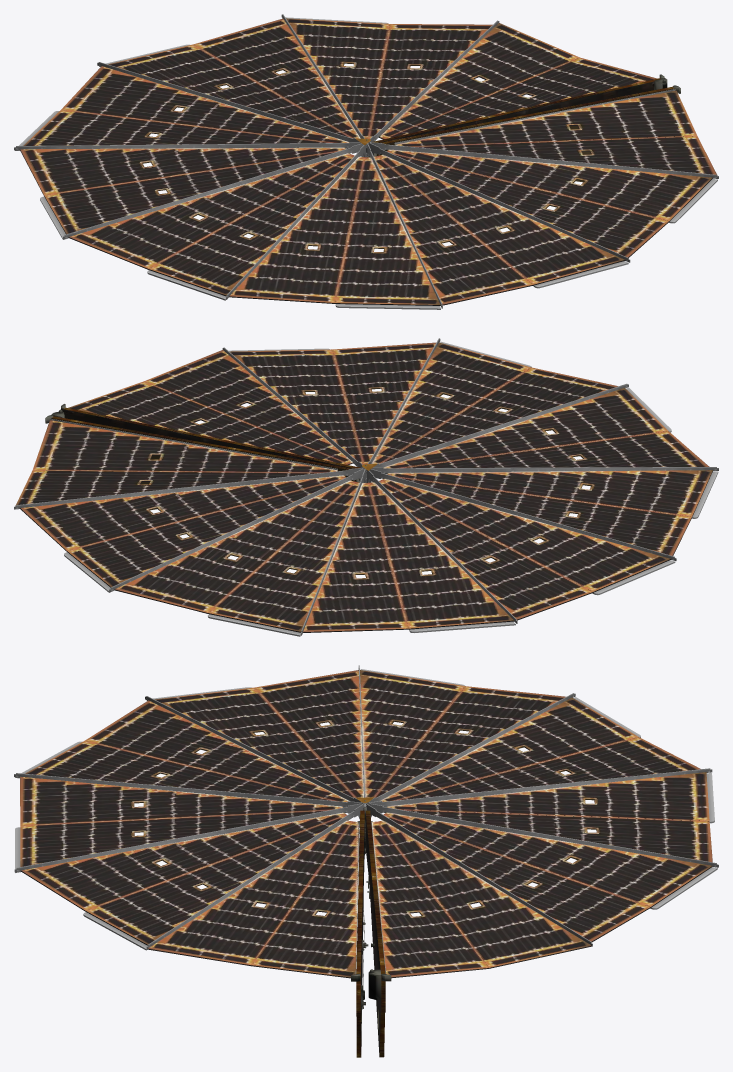
The model's file is solar-array.glb.
3 views of the same model, one above another, from view 1: azimuth 30°, elevation 25°; view 2: azimuth 150°, elevation 25°; view 3: azimuth 270°, elevation 25° (orthographic). The views are drawn at different scales.
Visible parts, largest first — view 1: Cube.056, Cube.051, Cube.055, Cube.001, Cube.050, Cube.065, Cube.052, Cube.049, Cube.053, Cube.063, Cube.059, Cube.061 (+19 smaller); view 2: Cube.047, Cube.064, Cube.061, Cube.049, Cube.063, Cube.058, Cube.062, Cube.046, Cube.051, Cube.065, Cube.060, Cube.056 (+18 smaller); view 3: Cube.059, Cube.060, Cube.057, Cube.054, Cube.062, Cube.053, Cube.046, Cube.052, Cube.064, Cube.055, Cube.050, Cube.058 (+18 smaller).
Part boxes in pixels (x1=…): Cube.056: x1=378, y1=154, x2=628, y2=288; Cube.051: x1=335, y1=157, x2=440, y2=309; Cube.055: x1=387, y1=149, x2=717, y2=223; Cube.001: x1=68, y1=153, x2=352, y2=269; Cube.050: x1=229, y1=157, x2=364, y2=303; Cube.065: x1=20, y1=147, x2=345, y2=195; Cube.052: x1=374, y1=156, x2=533, y2=305; Cube.049: x1=147, y1=155, x2=354, y2=300; Cube.053: x1=394, y1=90, x2=697, y2=146; Cube.063: x1=61, y1=66, x2=349, y2=142; Cube.059: x1=378, y1=23, x2=579, y2=139; Cube.061: x1=193, y1=18, x2=360, y2=138; Cube.047: x1=380, y1=478, x2=675, y2=595; Cube.064: x1=368, y1=482, x2=515, y2=632; Cube.061: x1=114, y1=480, x2=355, y2=613; Cube.049: x1=387, y1=470, x2=718, y2=518; Cube.063: x1=303, y1=482, x2=408, y2=632; Cube.058: x1=20, y1=475, x2=345, y2=551; Cube.062: x1=208, y1=482, x2=359, y2=636; Cube.046: x1=33, y1=420, x2=337, y2=473; Cube.051: x1=383, y1=388, x2=671, y2=468; Cube.065: x1=379, y1=480, x2=592, y2=620; Cube.060: x1=64, y1=479, x2=342, y2=592; Cube.056: x1=371, y1=341, x2=531, y2=463; Cube.059: x1=378, y1=820, x2=591, y2=968; Cube.060: x1=383, y1=812, x2=717, y2=909; Cube.057: x1=20, y1=812, x2=346, y2=911; Cube.054: x1=147, y1=820, x2=352, y2=966; Cube.062: x1=387, y1=772, x2=714, y2=823; Cube.053: x1=251, y1=821, x2=359, y2=978; Cube.046: x1=372, y1=821, x2=488, y2=978; Cube.052: x1=20, y1=776, x2=342, y2=825; Cube.064: x1=379, y1=697, x2=640, y2=801; Cube.055: x1=83, y1=815, x2=346, y2=950; Cube.050: x1=85, y1=700, x2=349, y2=802; Cube.058: x1=384, y1=815, x2=650, y2=942.
Size of the model in its own units: 2.25 by 0.3996 by 2.15.
Materials: 3 (3 with a texture image).
